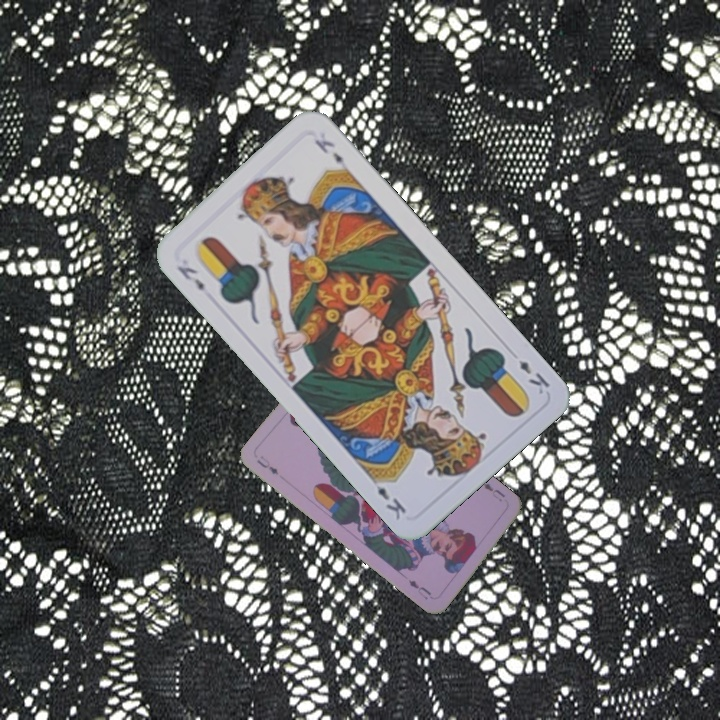EK: (514, 355, 553, 397), (172, 261, 208, 294)
EU: (479, 478, 508, 502), (252, 454, 281, 477)
